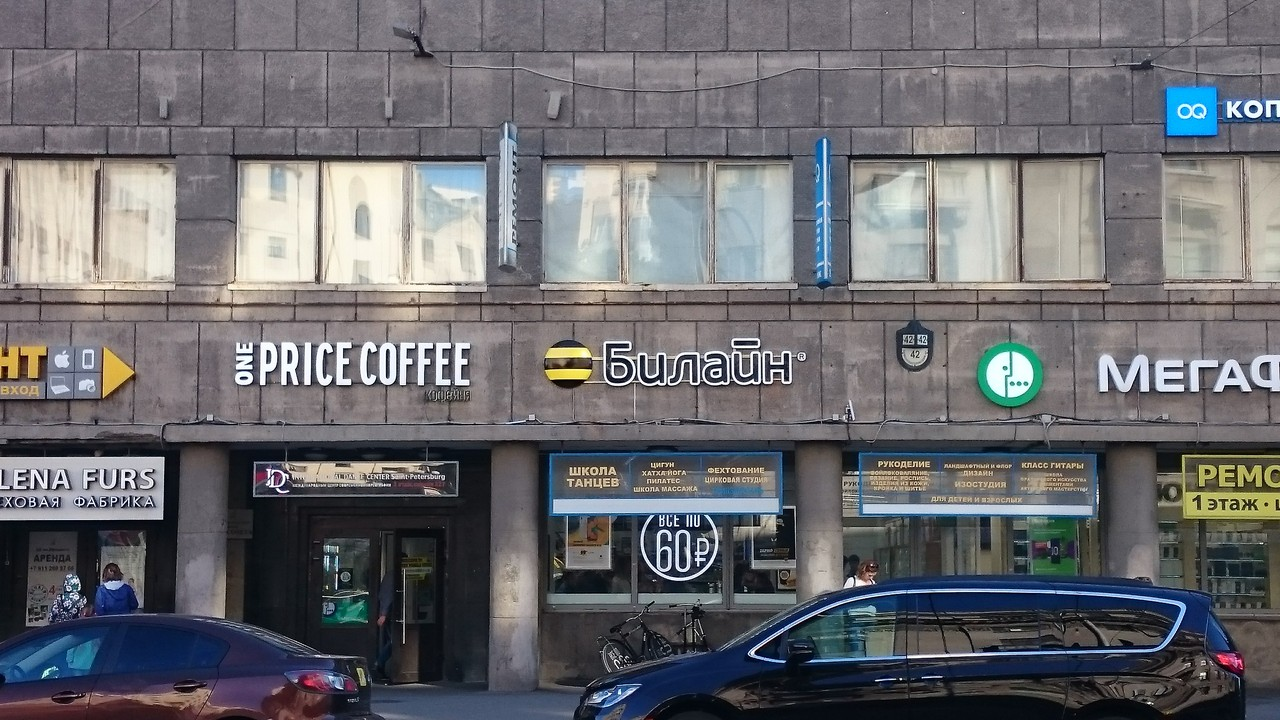cantilever: (495, 118, 524, 272), (813, 133, 837, 294)
signboard: (234, 341, 477, 407), (548, 457, 784, 517), (547, 337, 807, 385), (1, 454, 163, 524), (1, 342, 144, 404), (1097, 348, 1280, 395), (254, 462, 461, 497), (1165, 82, 1280, 132), (977, 340, 1043, 411)
window: (850, 152, 1107, 286), (232, 157, 487, 291), (543, 159, 795, 291), (1, 153, 177, 295), (1162, 158, 1280, 284)
